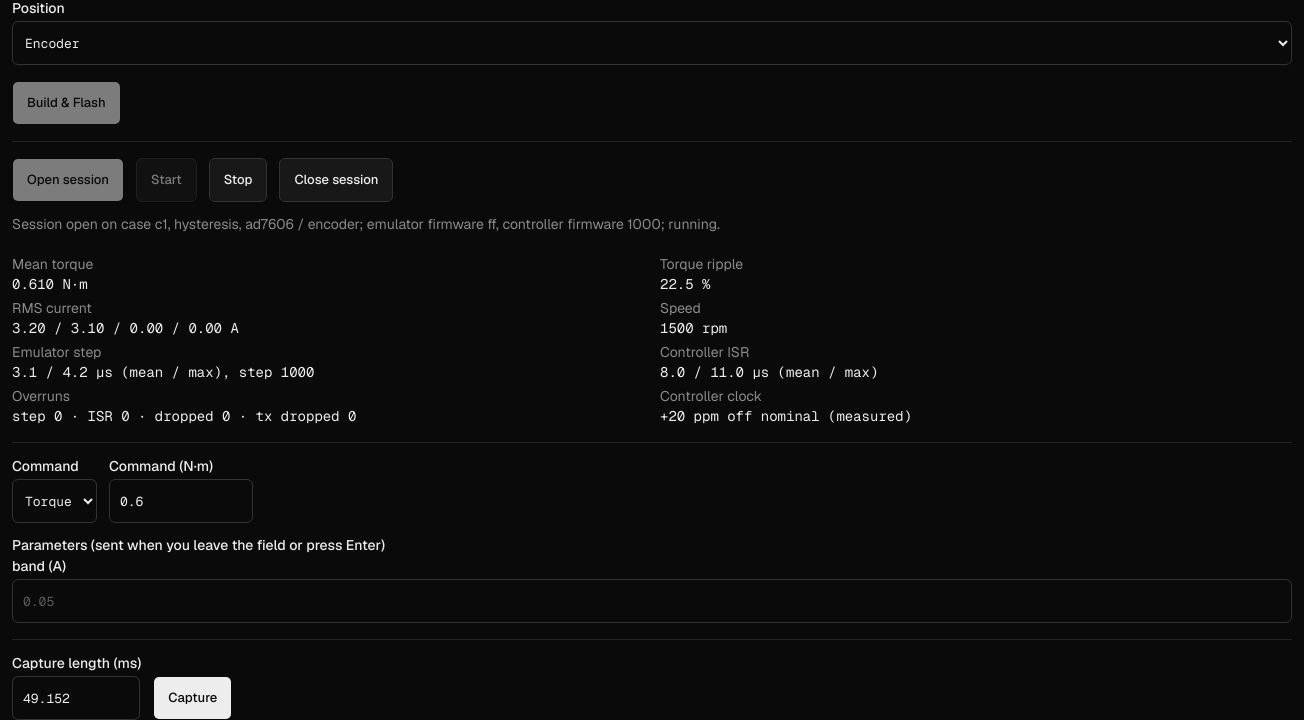
Test: HilPanel › shows the fail badge and the reason of a valid capture that missed the tolerance
(page scrolled)
Click the button "Capture" at (193, 698), box [153,676,232,719]
(page scrolled)
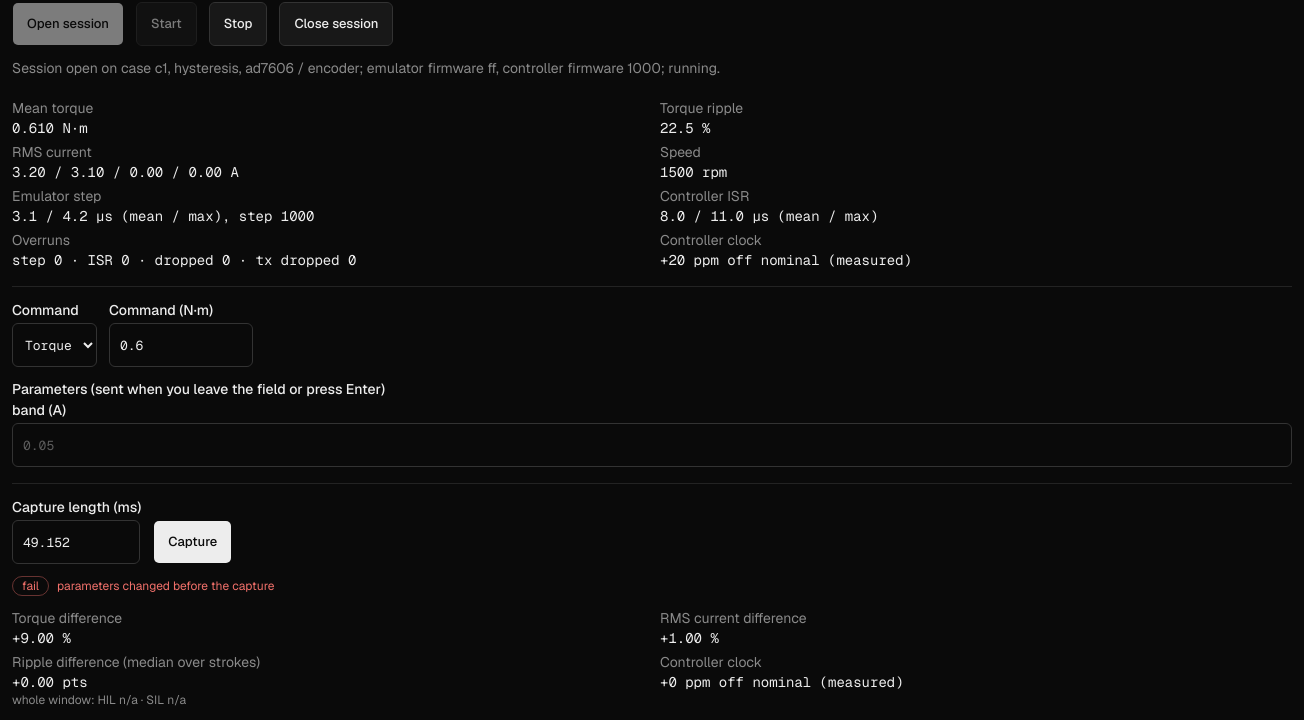
expect the icon with test id "verdict-fail" is shown: met, box [12,576,49,596]
expect the text "parameters changed before the capture" is shown: met, box [57,578,274,594]
